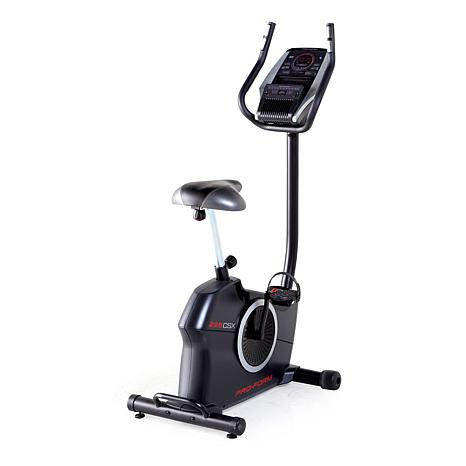gym_bike: (125, 20, 352, 446)
